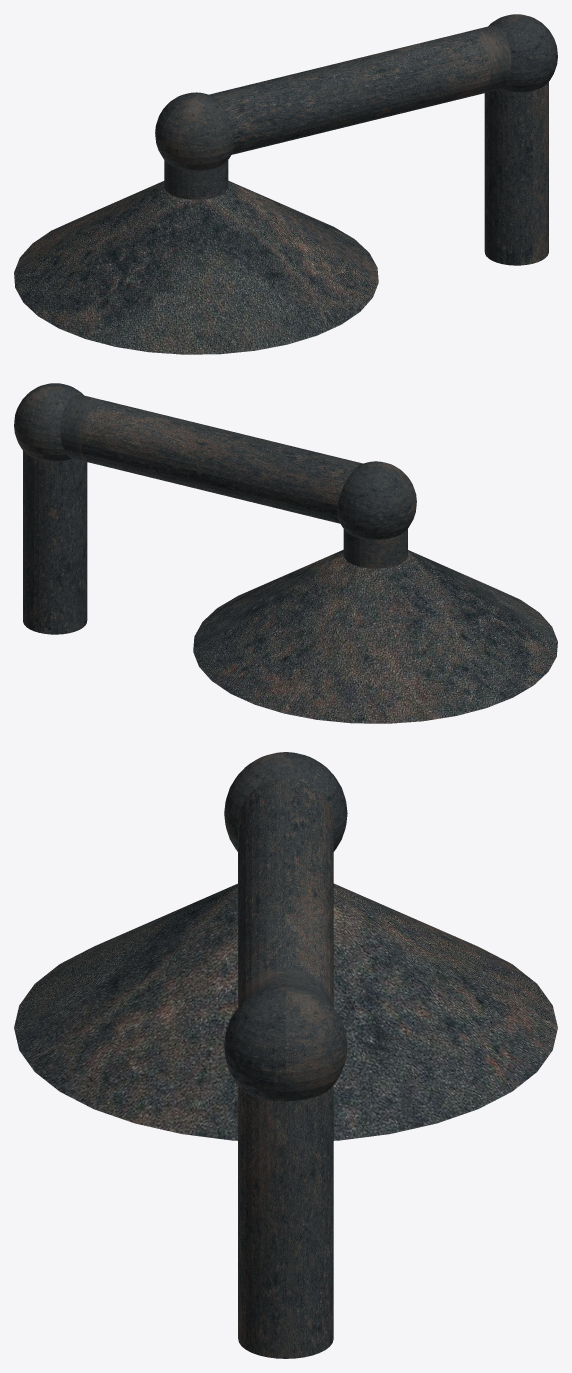
File: streetlamp.glb
3 renders of one model, top to bottom at view 1: azimuth 30°, elevation 25°; view 2: azimuth 150°, elevation 25°; view 3: azimuth 270°, elevation 25°, orthographic. The views are drawn at different scales.
Parts seen in each view (by area): view 1: Cylinder; view 2: Cylinder; view 3: Cylinder.
Boxes of the visible parts, x1,y1,x2,y2 form: Cylinder: (14,14,557,354); Cylinder: (14,383,557,723); Cylinder: (14,752,557,1358).
Size of the model in its own units: 9.69 by 4.21 by 5.96.
2 materials, 2 textured.
